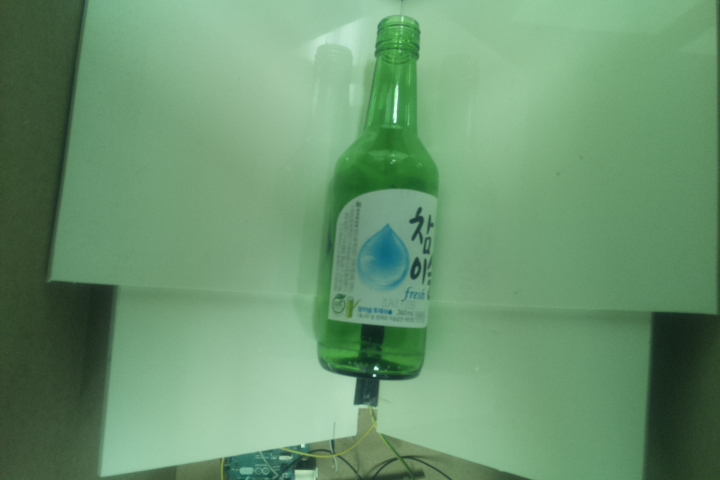soju: (312, 12, 442, 385)
